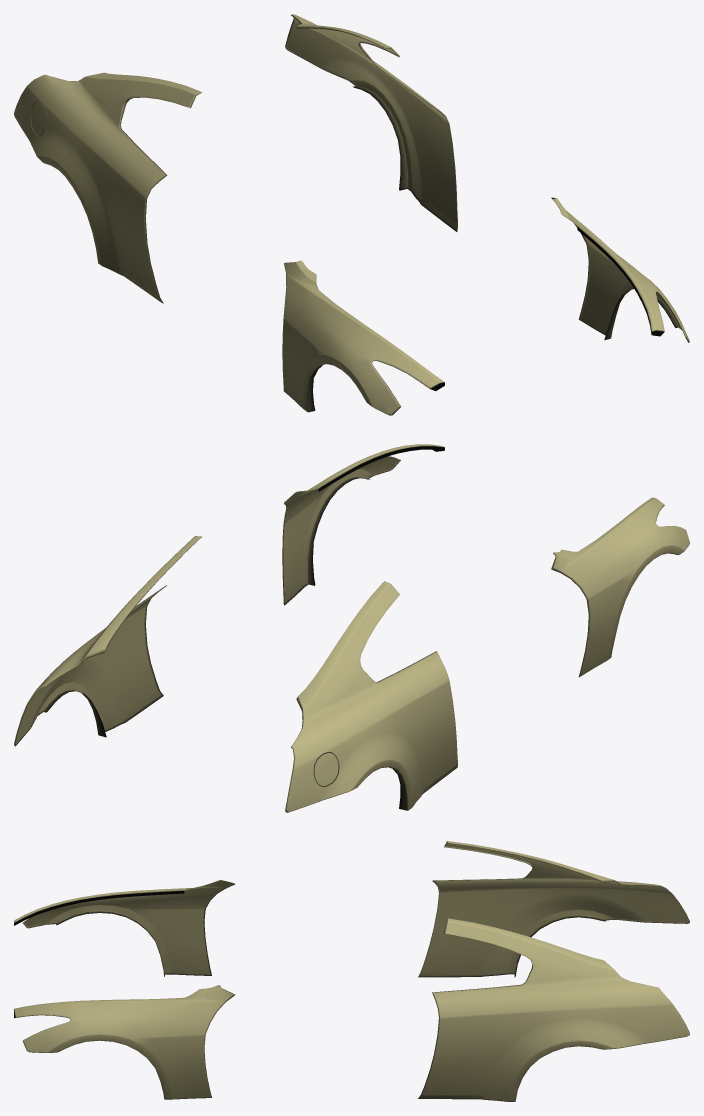
Rendered from G37_Fender_01_Duco.fbx.
3 renders of one model, top to bottom at view 1: azimuth 30°, elevation 25°; view 2: azimuth 150°, elevation 25°; view 3: azimuth 270°, elevation 25°, orthographic. The views are drawn at different scales.
Visible parts, largest first — view 1: G37_Fender_01_Duco; view 2: G37_Fender_01_Duco; view 3: G37_Fender_01_Duco.
Boxes of the visible parts, box(x1,y1,x2,y2) form: G37_Fender_01_Duco: box(14, 14, 689, 415); G37_Fender_01_Duco: box(14, 444, 689, 812); G37_Fender_01_Duco: box(14, 841, 689, 1101).
Size of the model in its own units: 185 by 103 by 401.
